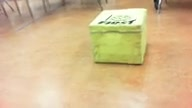cube: (89, 8, 145, 65)
